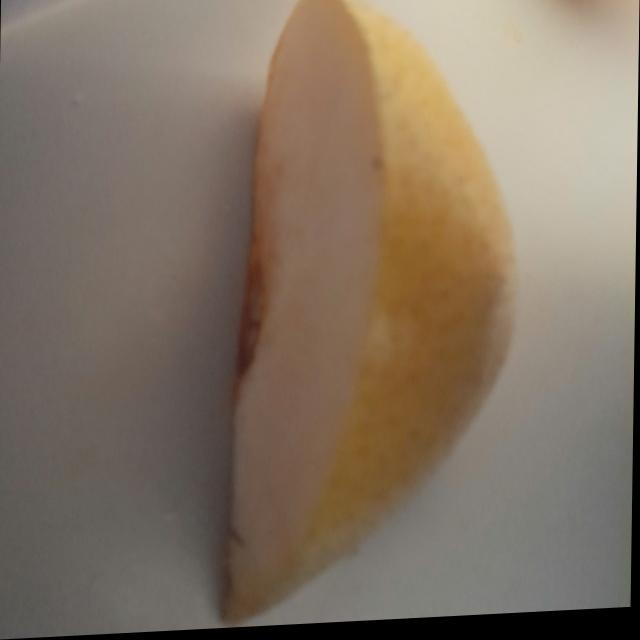Le: (223, 0, 530, 629)
